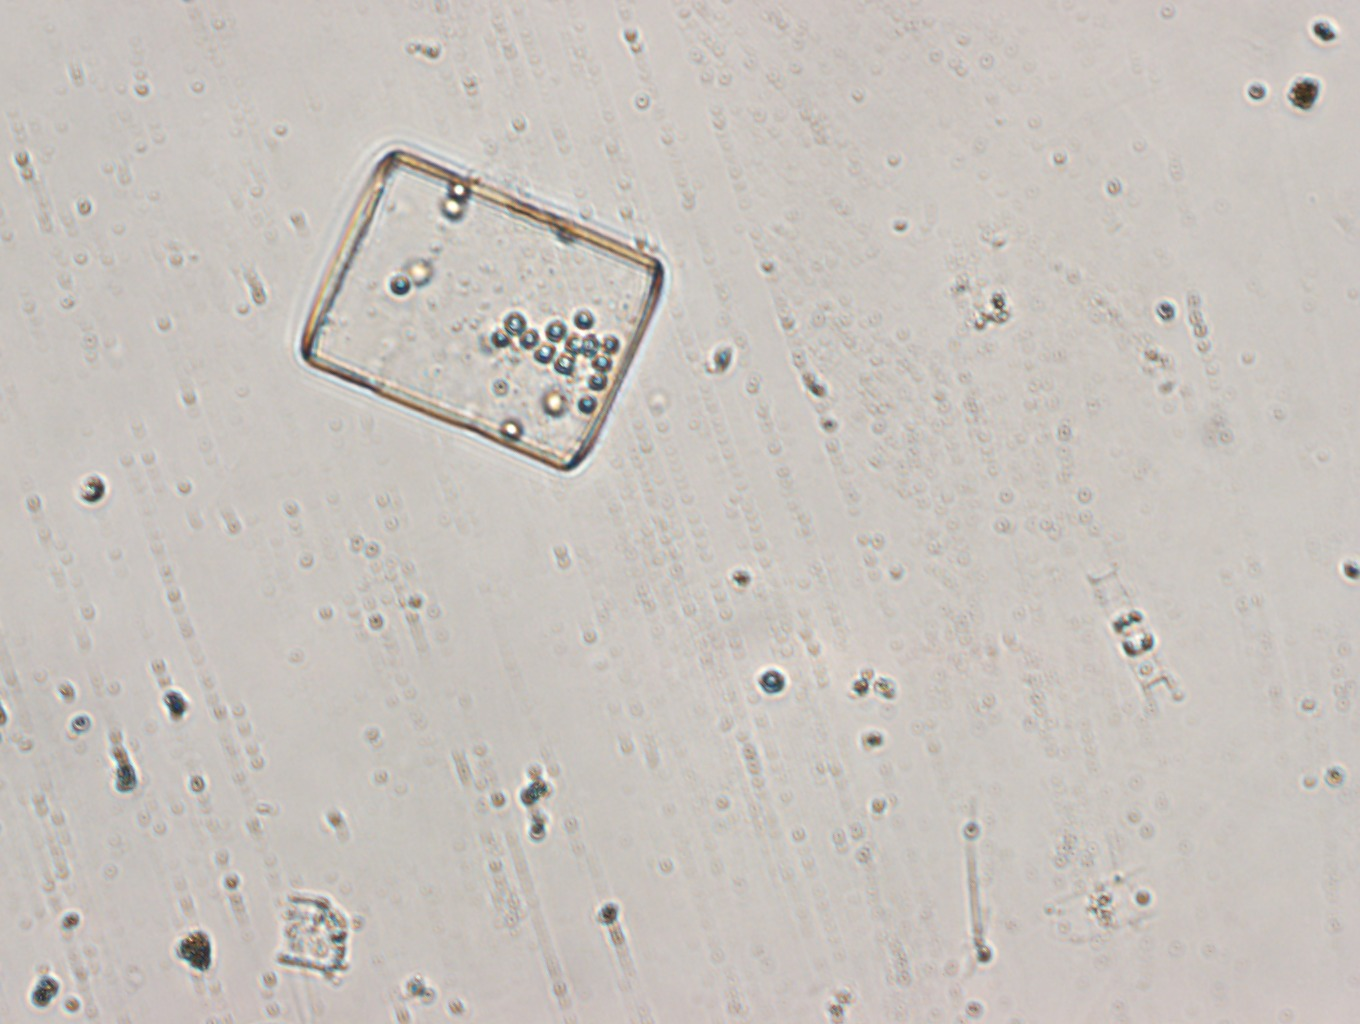guinardia flaccida: (291, 138, 668, 475)
skeletonema: (1088, 561, 1180, 713)
